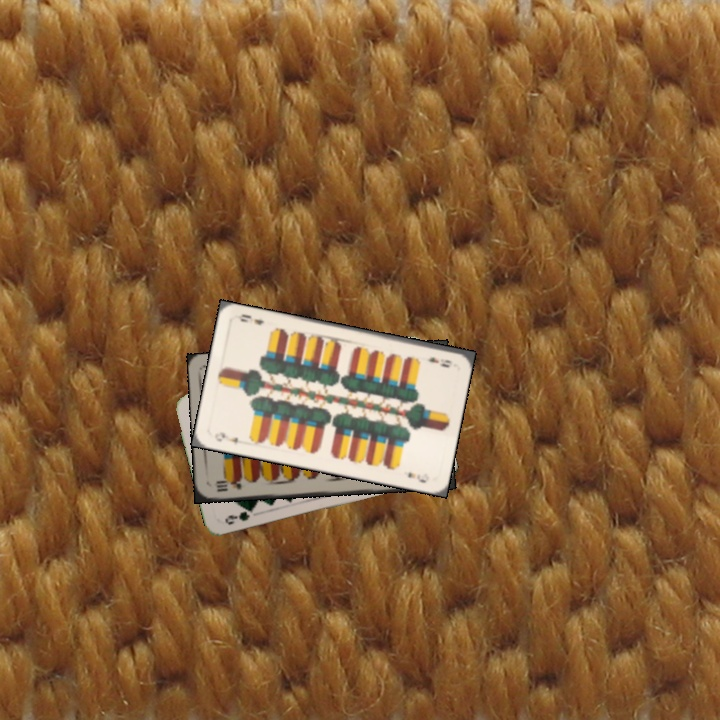E10: (212, 475, 249, 494)
E9: (211, 428, 241, 446), (424, 353, 455, 370)
G9: (221, 504, 257, 527)
